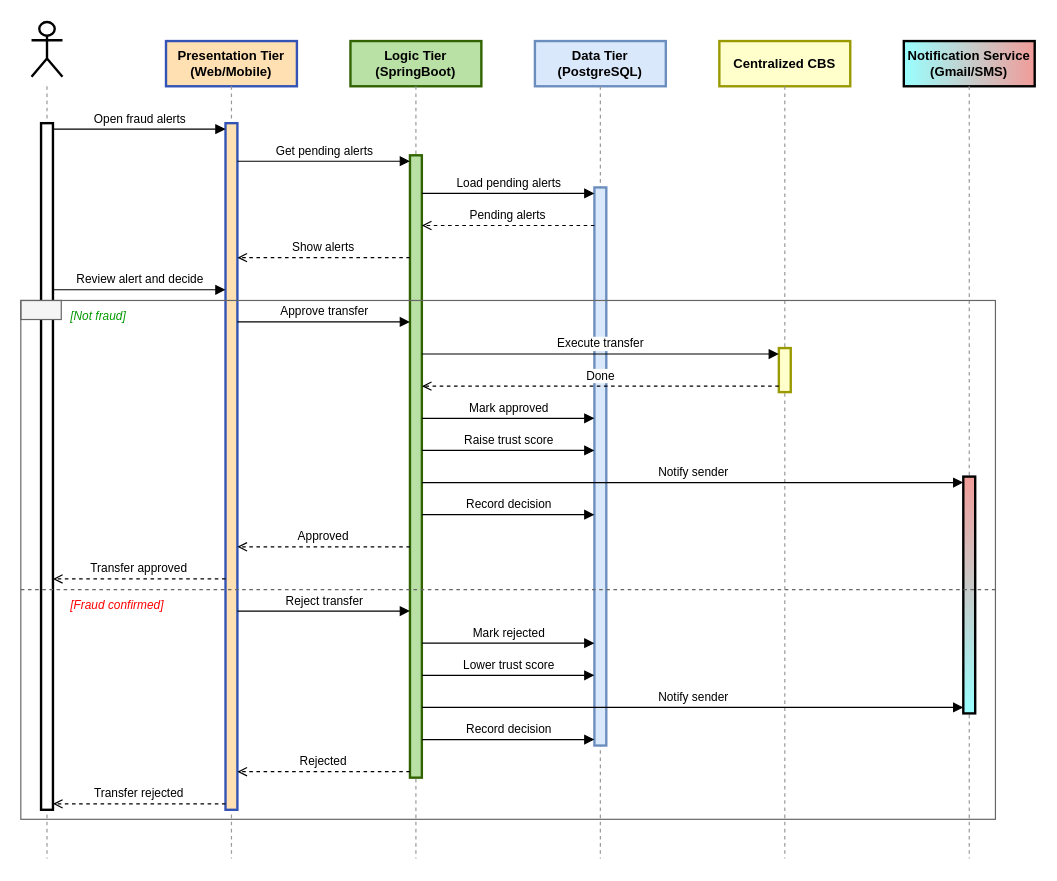
The diagram is 1057 pixels wide and 881 high, and some of its shapes have lost their labels. Each missing label, with the centre of its shape:
"alt" belongs at (40,309).
"Analyst" belongs at (46,48).
